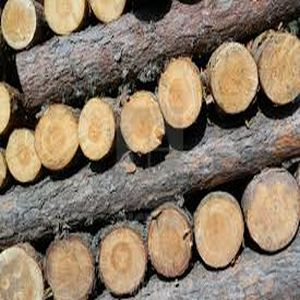log: (244, 164, 300, 260), (207, 40, 261, 119), (196, 191, 246, 275), (147, 205, 197, 283), (157, 56, 206, 131), (98, 223, 149, 295), (32, 103, 82, 175), (46, 231, 94, 300), (118, 88, 165, 158), (256, 31, 300, 105), (75, 96, 116, 162), (1, 247, 45, 298), (7, 128, 42, 186), (2, 1, 39, 51), (42, 1, 87, 37), (89, 1, 128, 23)
